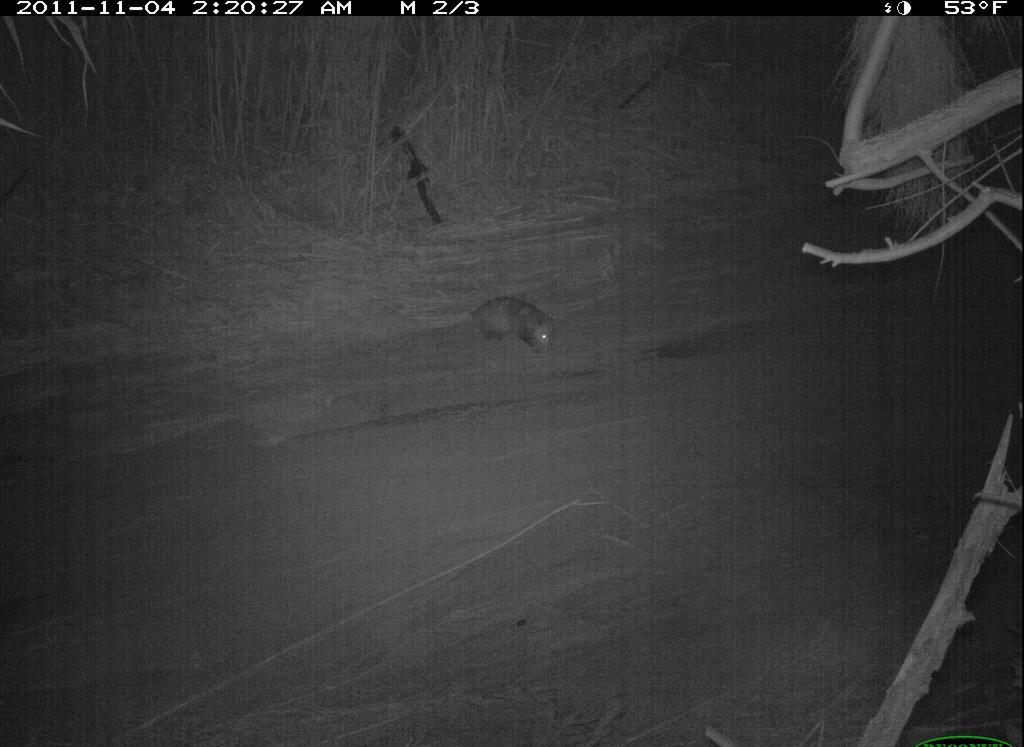opossum: (454, 294, 568, 358)
